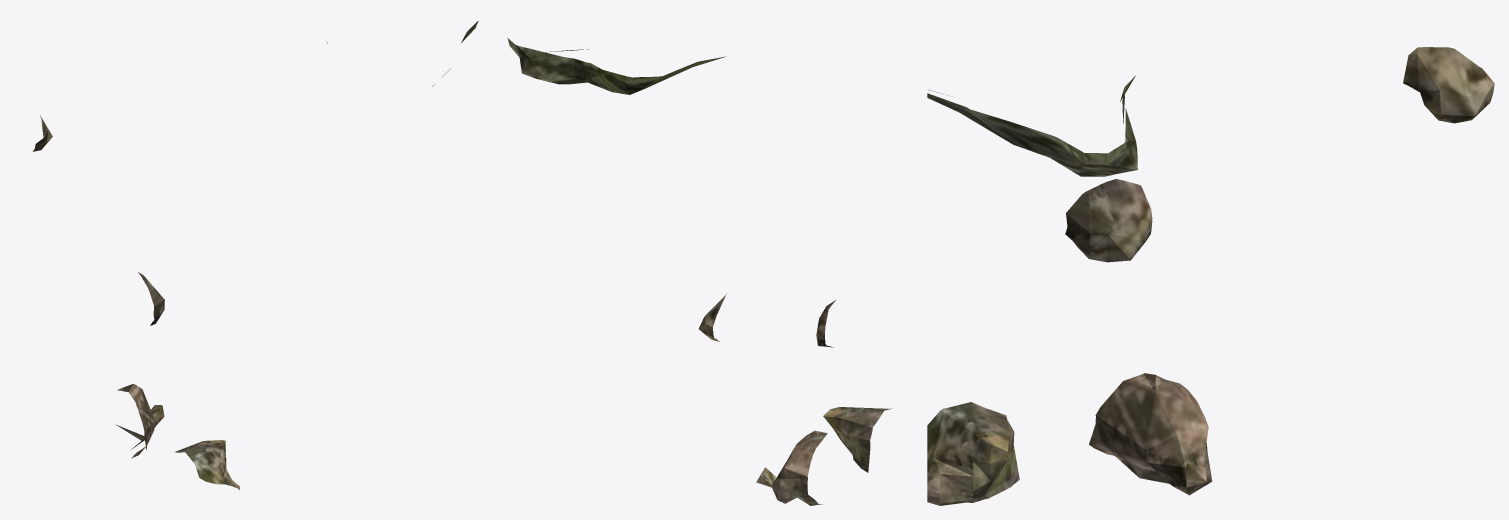
The picture shows the model from 3 angles, left to right: view 1: azimuth 30°, elevation 25°; view 2: azimuth 150°, elevation 25°; view 3: azimuth 270°, elevation 25°; orthographic projection. The views are drawn at different scales.
Bounding box in the file's own units: 2.73 × 2.95 × 2.64.
1 material, 1 textured.
